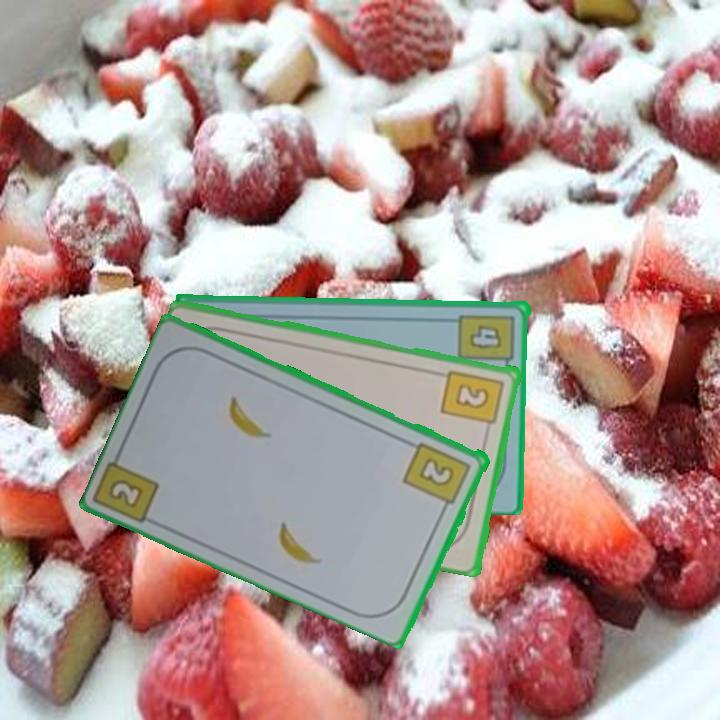2b: (400, 438, 474, 515), (439, 366, 507, 436), (108, 478, 143, 508)
4b: (456, 310, 518, 374)
